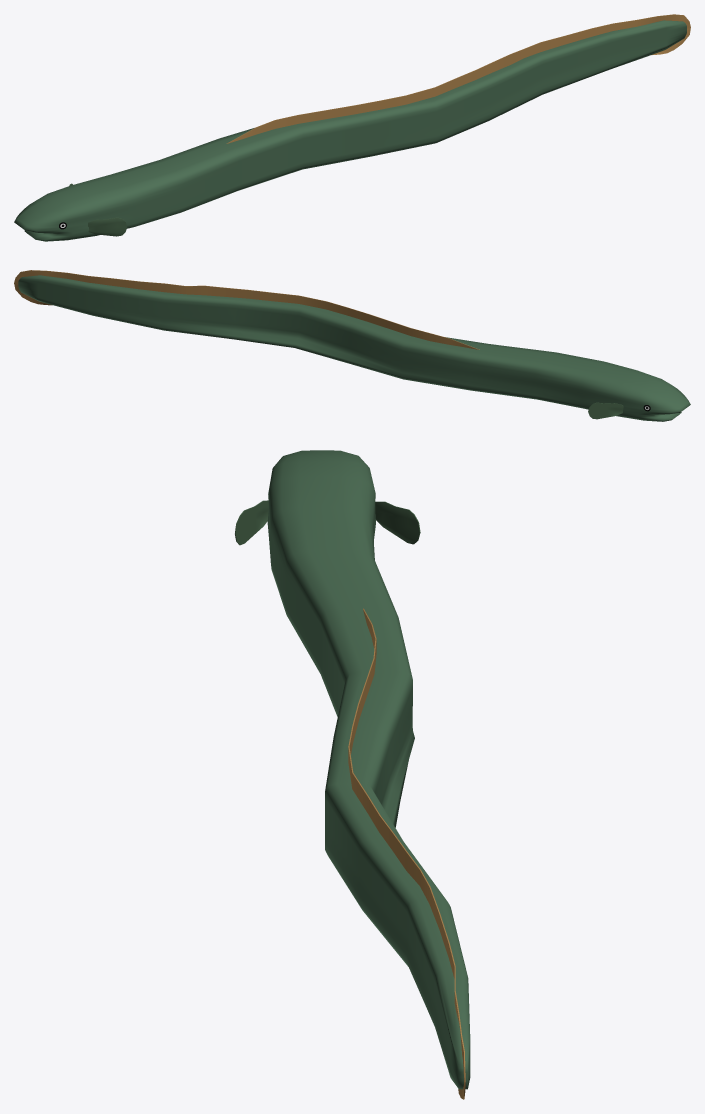
The model's file is 7NJlKSShDB0.glb.
The picture shows the model from 3 angles, top to bottom: view 1: azimuth 30°, elevation 25°; view 2: azimuth 150°, elevation 25°; view 3: azimuth 270°, elevation 25°; orthographic projection. The views are drawn at different scales.
Parts seen in each view (by area): view 1: Line001; view 2: Line001; view 3: Line001.
Part boxes in pixels (x1,y1,x2,y2): Line001: [14, 14, 690, 241]; Line001: [14, 270, 690, 421]; Line001: [235, 450, 470, 1099].
Size of the model in its own units: 14.45 by 0.9999 by 2.31.
